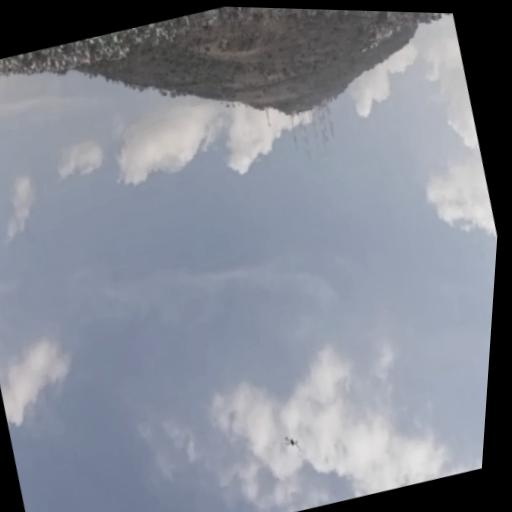drones: (279, 425, 306, 458)
